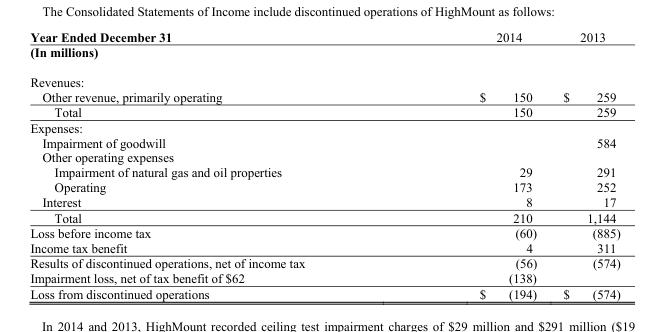table: (29, 29, 619, 300)
table column: (29, 29, 391, 300), (391, 29, 549, 300), (549, 29, 619, 300)
table column header: (29, 29, 619, 44)
table projected row header: (29, 44, 619, 66), (29, 66, 619, 88), (29, 119, 619, 134), (29, 149, 619, 164)
table row: (29, 44, 619, 66), (29, 66, 619, 88), (29, 88, 619, 104), (29, 224, 619, 240), (29, 29, 619, 44), (29, 104, 619, 119), (29, 119, 619, 134), (29, 134, 619, 149), (29, 149, 619, 164), (29, 164, 619, 179), (29, 179, 619, 194), (29, 194, 619, 209), (29, 209, 619, 224), (29, 240, 619, 255), (29, 255, 619, 270), (29, 270, 619, 285), (29, 285, 619, 300)
